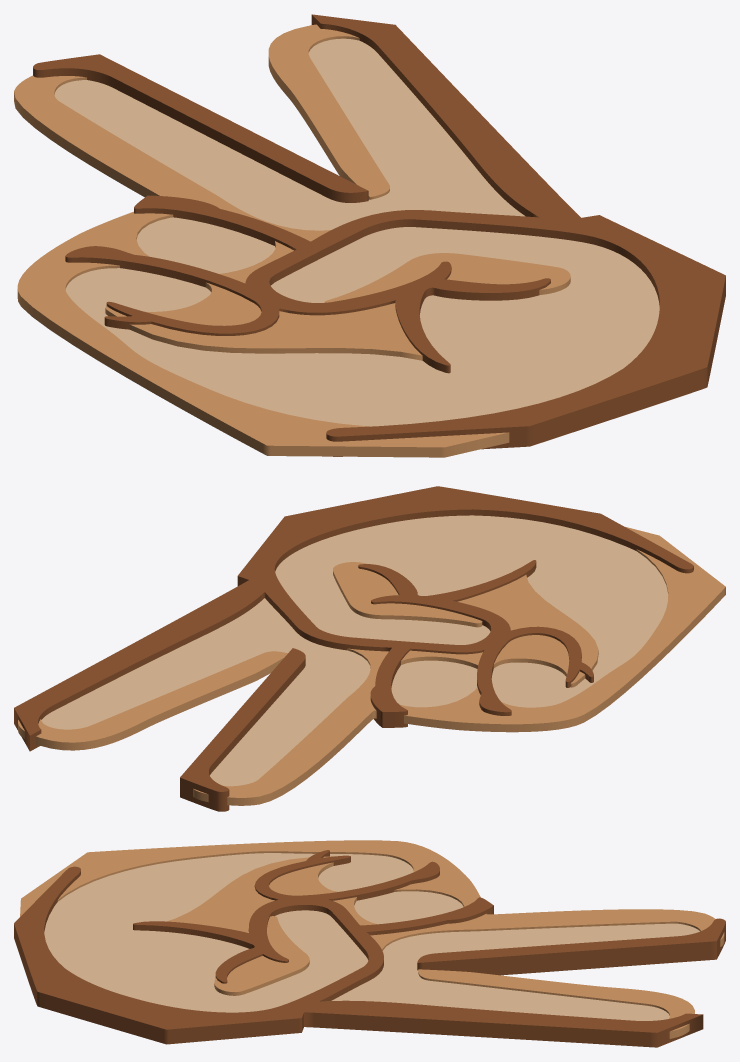
File: emoji_u270c_1f3fc.glb
3 renders of one model, top to bottom at view 1: azimuth 30°, elevation 25°; view 2: azimuth 150°, elevation 25°; view 3: azimuth 270°, elevation 25°, orthographic. The views are drawn at different scales.
Visible parts, largest first — view 1: emoji_u270c_1f3fc; view 2: emoji_u270c_1f3fc; view 3: emoji_u270c_1f3fc.
Boxes of the visible parts, box(x1,y1,x2,y2) form: emoji_u270c_1f3fc: box(14, 14, 725, 457); emoji_u270c_1f3fc: box(14, 486, 725, 811); emoji_u270c_1f3fc: box(14, 840, 725, 1047).
Bounding box in the file's own units: 0.0228 × 0.001 × 0.0349.
